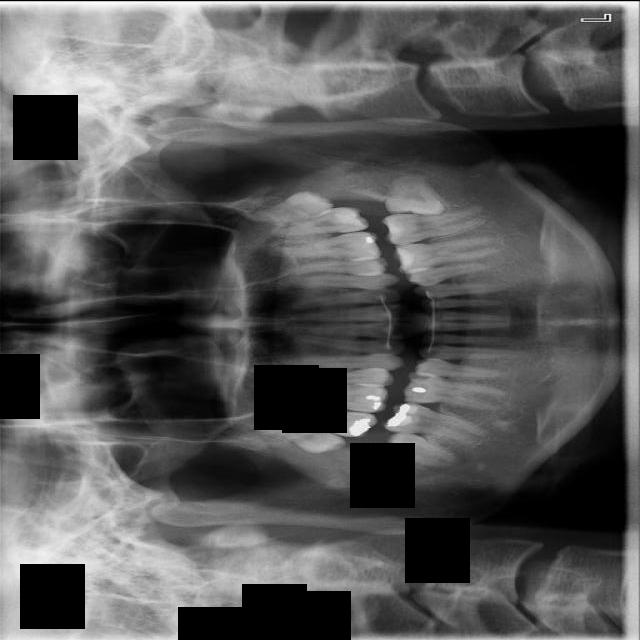3M ESPE Implant: (256, 418, 346, 457)
52: (402, 369, 446, 406), (384, 400, 431, 433), (326, 410, 378, 437), (343, 383, 388, 412), (340, 230, 382, 260)
73: (616, 4, 624, 14)
BioHorizons Implant: (262, 203, 369, 238)
BioLife Implant: (241, 185, 335, 229)
Biomet 3i Implant: (385, 170, 447, 216)
Blue Sky Bio Implant: (380, 204, 486, 247)
Caries: (267, 404, 375, 438)
Implant: (382, 398, 488, 448)
Keystone Dental Implant: (374, 427, 468, 471)
